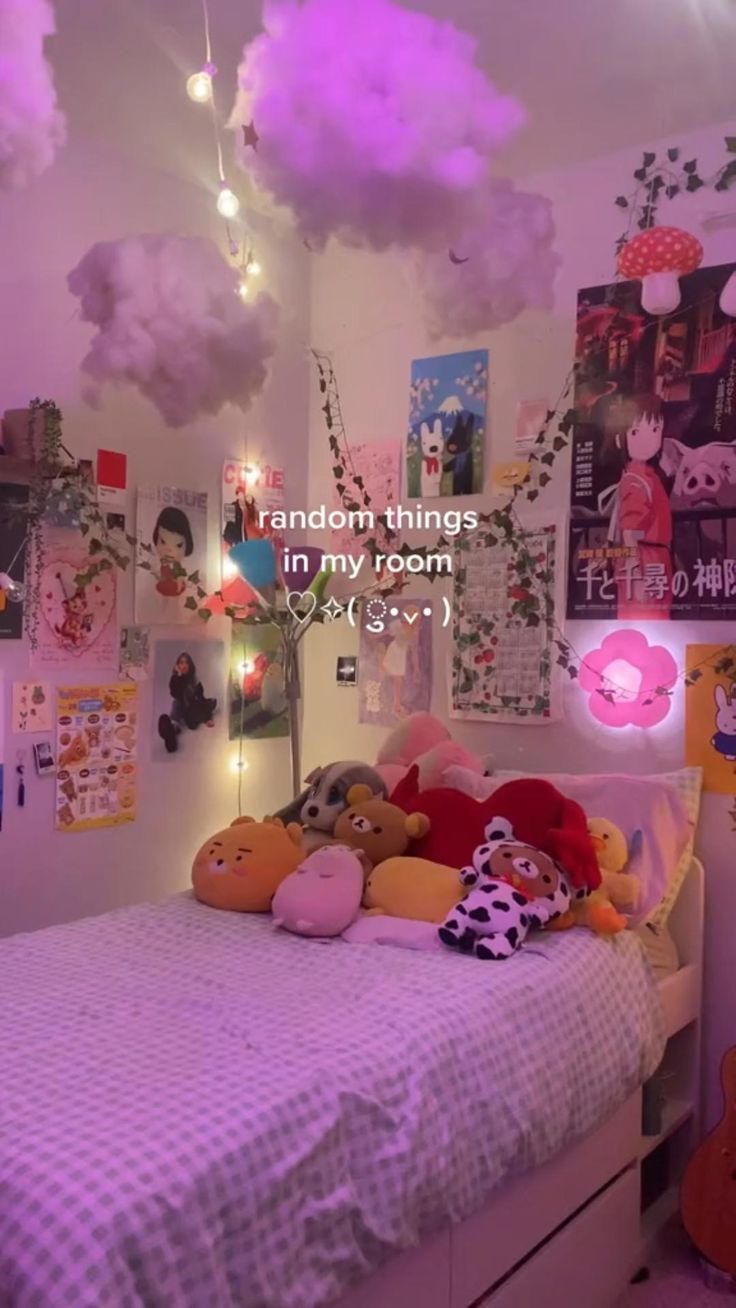not a gesture sign: (160, 291, 543, 1057)
